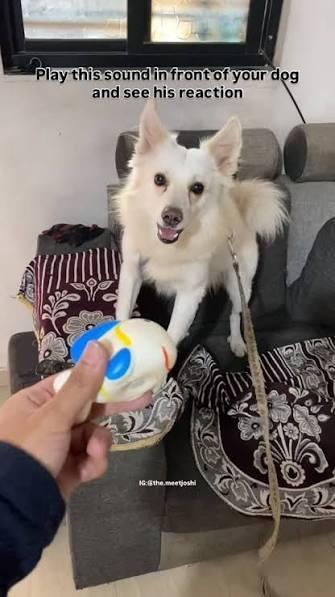adult_dog: (109, 100, 291, 359)
